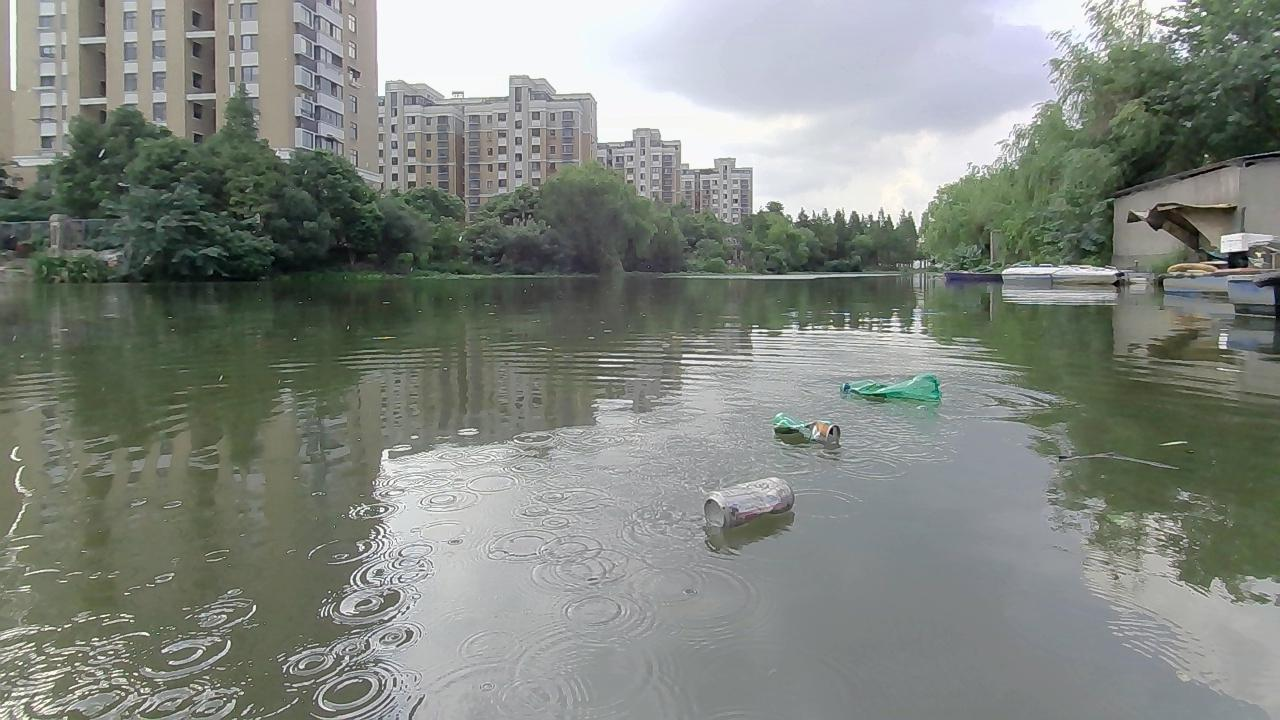Metal: (703, 475, 795, 529), (772, 411, 842, 444)
Plastic: (839, 373, 942, 404)
